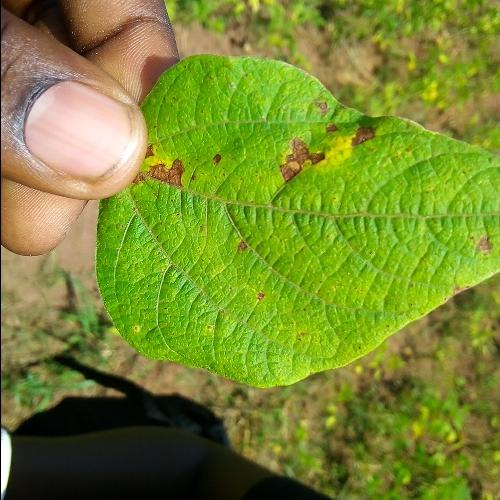hawar: (120, 53, 390, 236)
